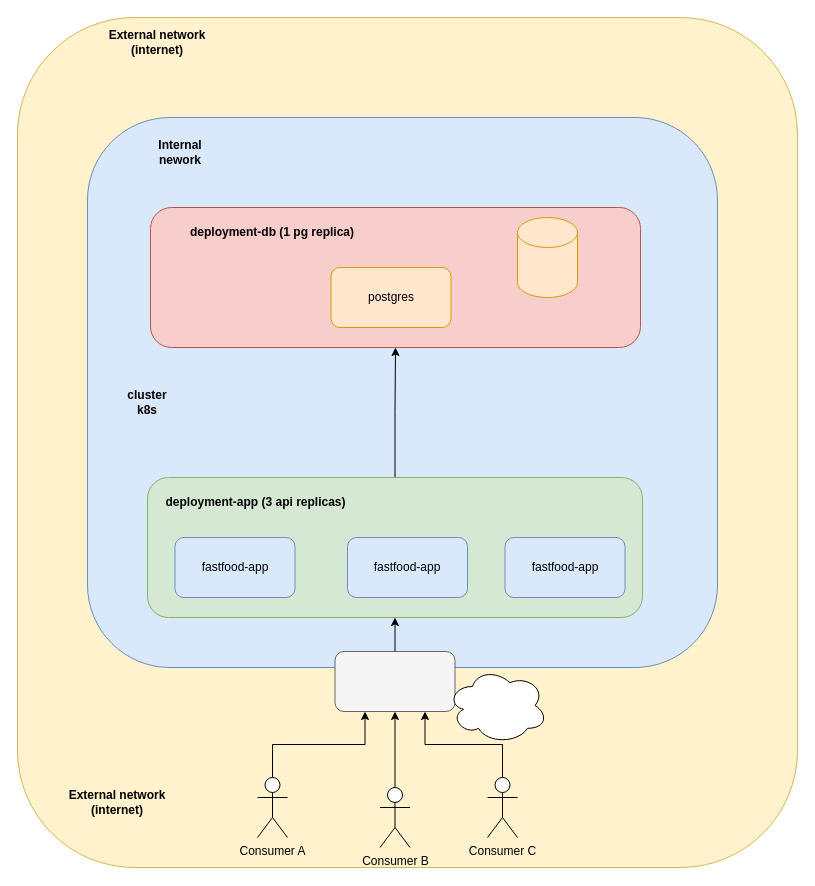
This 815x886 diagram has some shape labels left out. Each missing label, with the centre of its shape:
exposes the API to the internet: the point at 497,705
nodeport service: the point at 394,681
persistent volume: the point at 547,257
